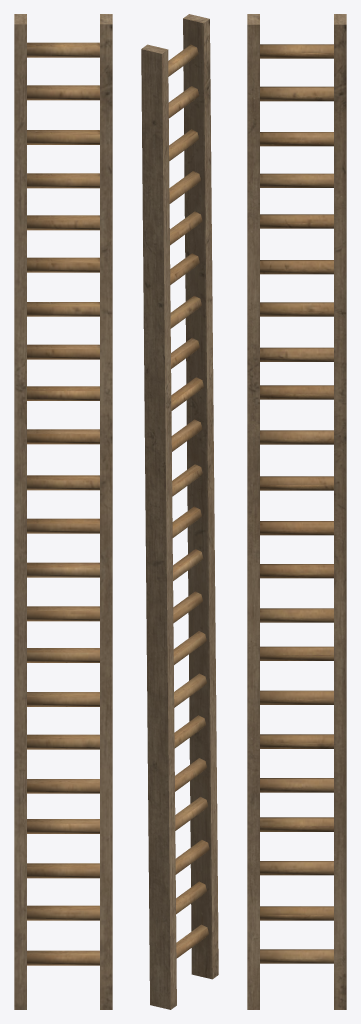
The model's file is ladderescada.glb.
3 renders of one model, left to right at view 1: azimuth 90°, elevation 25°; view 2: azimuth 150°, elevation 25°; view 3: azimuth 270°, elevation 25°, orthographic. The views are drawn at different scales.
Parts seen in each view (by area): view 1: DegrausEscada1; view 2: DegrausEscada1; view 3: DegrausEscada1.
Part boxes in pixels (x1,y1,x2,y2): DegrausEscada1: (14,14,112,1009); DegrausEscada1: (141,14,218,1009); DegrausEscada1: (247,14,346,1009).
Size of the model in its own units: 32.2 by 992 by 90.27.
Materials: 2 (2 with a texture image).
